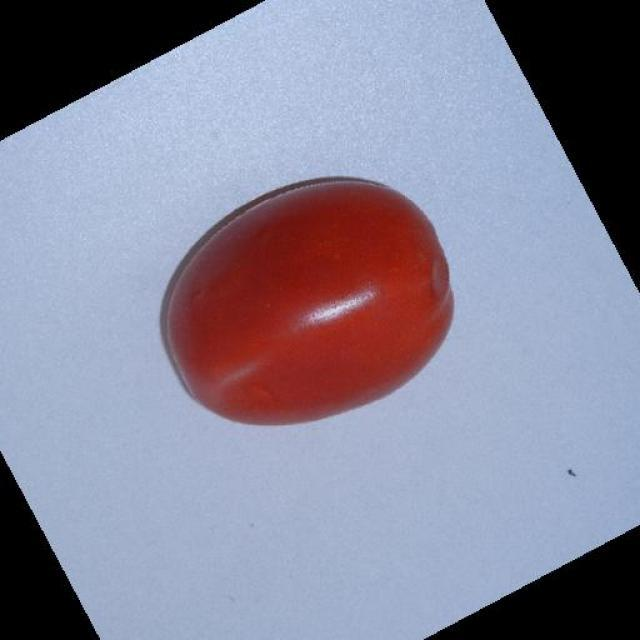Fresh Tomato: (135, 176, 476, 434)
